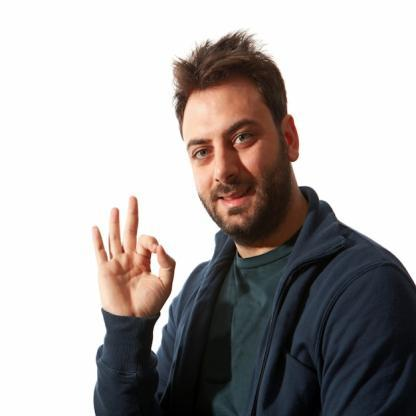ok: (86, 192, 177, 324)
